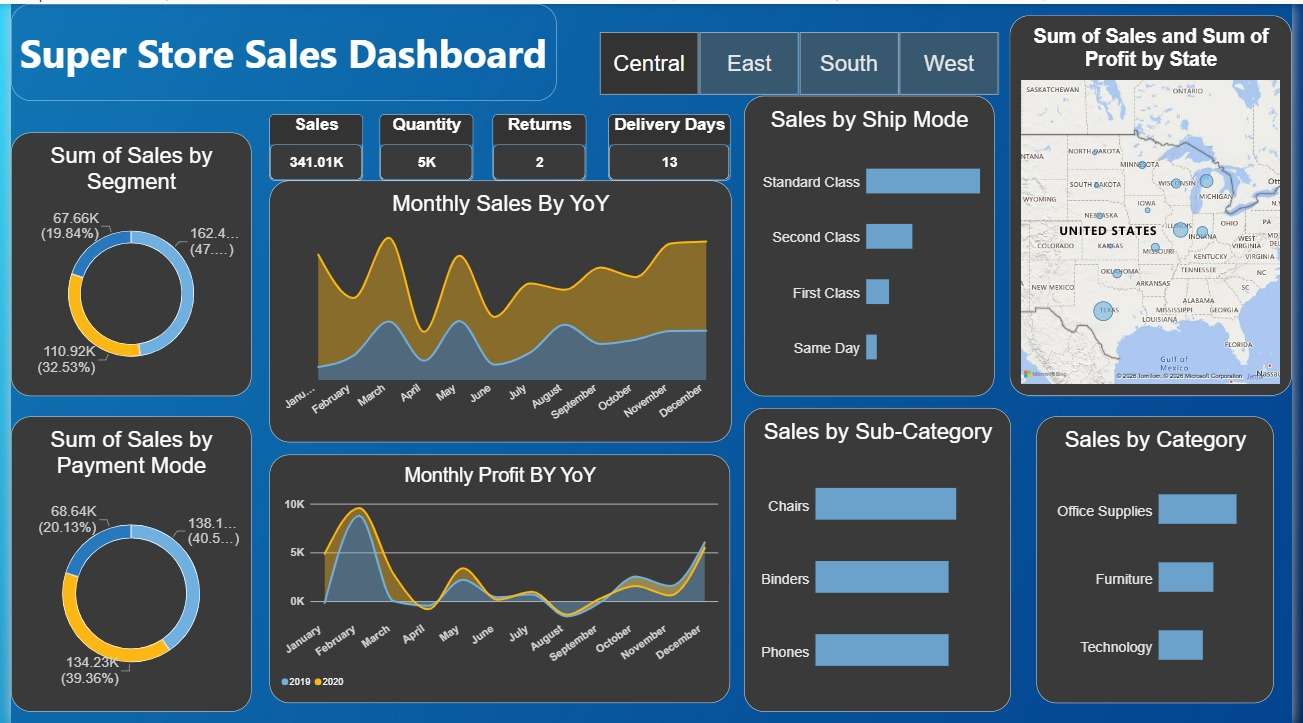

The dashboard page shown, as its layout file describes it:
{"tool":"powerbi","page":{"name":"Page 1","canvas":[1920,1080],"ordinal":0},"visuals":[{"type":"clusteredBarChart","title":"Sales by Category","fields":{"Category":["SuperStore_Sales_Dataset.Category"],"Y":["Sum(SuperStore_Sales_Dataset.Sales)"]},"box":[1536.8,618.1,355.6,429.7],"z":0},{"type":"clusteredBarChart","title":"Sales by Sub-Category","fields":{"Category":["SuperStore_Sales_Dataset.Sub-Category"],"Y":["Sum(SuperStore_Sales_Dataset.Sales)"]},"box":[1098.6,605.4,400.1,455.1],"z":1000},{"type":"clusteredBarChart","title":"Sales by Ship Mode","fields":{"Category":["SuperStore_Sales_Dataset.Ship Mode"],"Y":["Sum(SuperStore_Sales_Dataset.Sales)"]},"box":[1098.6,137.6,375,450],"z":2000},{"type":"stackedAreaChart","title":"Monthly Sales By YoY","fields":{"Category":["SuperStore_Sales_Dataset.Order Date.Variation.Date Hierarchy.Month","SuperStore_Sales_Dataset.Order Date.Variation.Date Hierarchy.Day"],"Series":["SuperStore_Sales_Dataset.Order Date.Variation.Date Hierarchy.Year"],"Y":["Sum(SuperStore_Sales_Dataset.Sales)"]},"box":[387.5,265,692.5,392.5],"z":3000},{"type":"stackedAreaChart","title":"Monthly Profit BY YoY","fields":{"Category":["SuperStore_Sales_Dataset.Order Date.Variation.Date Hierarchy.Month","SuperStore_Sales_Dataset.Order Date.Variation.Date Hierarchy.Day"],"Series":["SuperStore_Sales_Dataset.Order Date.Variation.Date Hierarchy.Year"],"Y":["Sum(SuperStore_Sales_Dataset.Profit)"]},"box":[387.5,675,690,372.5],"z":4000},{"type":"map","fields":{"Category":["SuperStore_Sales_Dataset.State"],"Size":["Sum(SuperStore_Sales_Dataset.Sales)"]},"box":[1497.5,17.5,422.5,570],"z":5000},{"type":"donutChart","fields":{"Category":["SuperStore_Sales_Dataset.Segment"],"Y":["Sum(SuperStore_Sales_Dataset.Sales)"]},"box":[0,192.5,360,395],"z":6000},{"type":"donutChart","fields":{"Category":["SuperStore_Sales_Dataset.Payment Mode"],"Y":["Sum(SuperStore_Sales_Dataset.Sales)"]},"box":[0,617.5,360,442.5],"z":7000},{"type":"slicer","fields":{"Values":["SuperStore_Sales_Dataset.Region"]},"box":[861.5,40.2,637.1,97.4],"z":8000},{"type":"textbox","box":[0,0,817.5,145],"z":9000},{"type":"cardVisual","title":"Quantity","fields":{"Data":["Sum(SuperStore_Sales_Dataset.Quantity)"]},"box":[552.5,165,140,100],"z":10000},{"type":"cardVisual","title":"Returns","fields":{"Data":["Count(SuperStore_Sales_Dataset.Returns)"]},"box":[722.5,165,140,100],"z":11000},{"type":"cardVisual","title":"Delivery Days","fields":{"Data":["Avg(SuperStore_Sales_Dataset.AvgDelivery)"]},"box":[895,165,182.5,100],"z":12000},{"type":"cardVisual","title":"Sales","fields":{"Data":["Sum(SuperStore_Sales_Dataset.Sales)"]},"box":[387.5,165,140,100],"z":13000}]}

Visuals, with their boxes in screenshot pixels (x1, y1, x2, y2), scaled from the page's 1920x1080 canvas onto the 1303x723 screenshot:
"Sales by Category" clusteredBarChart: [left=1043, top=414, right=1284, bottom=701]
"Sales by Sub-Category" clusteredBarChart: [left=746, top=405, right=1017, bottom=710]
"Sales by Ship Mode" clusteredBarChart: [left=746, top=92, right=1000, bottom=393]
"Monthly Sales By YoY" stackedAreaChart: [left=263, top=177, right=733, bottom=440]
"Monthly Profit BY YoY" stackedAreaChart: [left=263, top=452, right=731, bottom=701]
map - SuperStore_Sales_Dataset.State x Sum(SuperStore_Sales_Dataset.Sales): [left=1016, top=12, right=1302, bottom=393]
donutChart - SuperStore_Sales_Dataset.Segment x Sum(SuperStore_Sales_Dataset.Sales): [left=0, top=129, right=244, bottom=393]
donutChart - SuperStore_Sales_Dataset.Payment Mode x Sum(SuperStore_Sales_Dataset.Sales): [left=0, top=413, right=244, bottom=710]
slicer - SuperStore_Sales_Dataset.Region: [left=585, top=27, right=1017, bottom=92]
textbox: [left=0, top=0, right=555, bottom=97]
"Quantity" cardVisual: [left=375, top=110, right=470, bottom=177]
"Returns" cardVisual: [left=490, top=110, right=585, bottom=177]
"Delivery Days" cardVisual: [left=607, top=110, right=731, bottom=177]
"Sales" cardVisual: [left=263, top=110, right=358, bottom=177]
